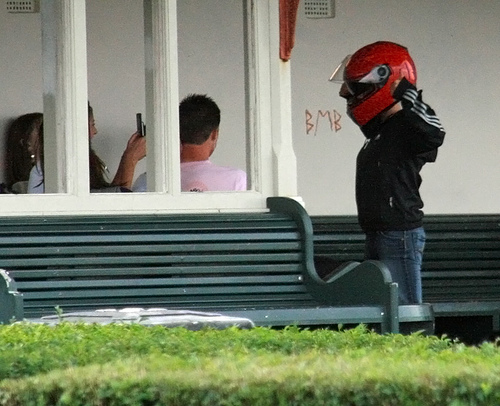helmet: (334, 44, 424, 109)
